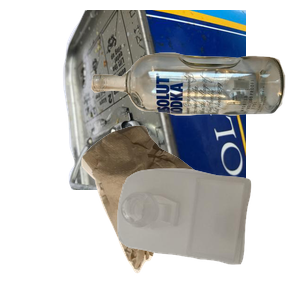glass: (88, 50, 300, 158)
metal: (60, 10, 300, 190)
plastic: (115, 166, 300, 300)
trash: (79, 123, 281, 300)
